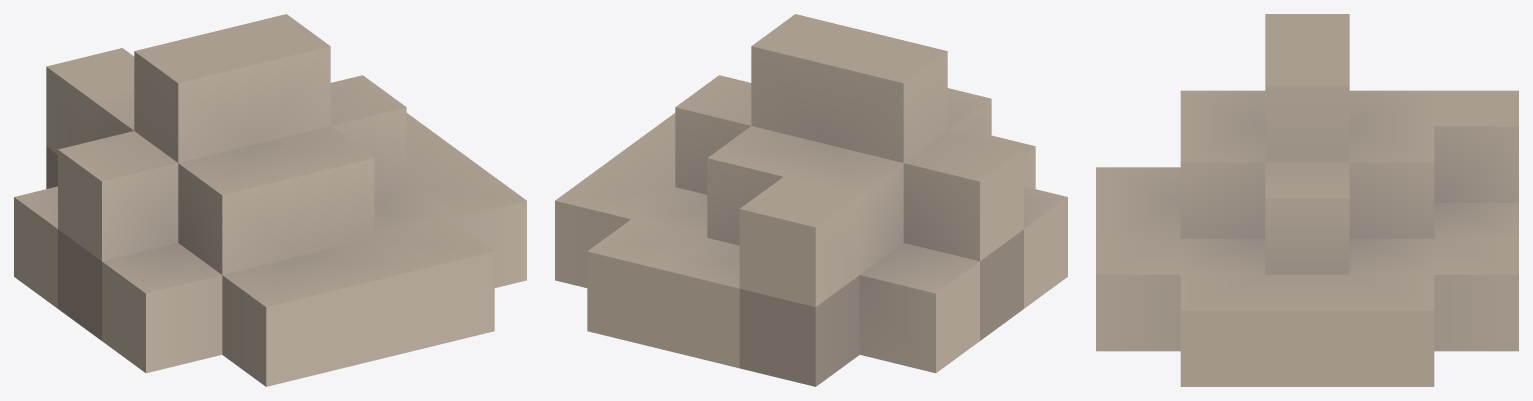
The model's file is decor_rock_c.glb.
3 renders of one model, left to right at view 1: azimuth 30°, elevation 25°; view 2: azimuth 150°, elevation 25°; view 3: azimuth 270°, elevation 25°, orthographic. The views are drawn at different scales.
Parts seen in each view (by area): view 1: decor_rock_c; view 2: decor_rock_c; view 3: decor_rock_c.
Part boxes in pixels (left/top/right/bottom): decor_rock_c: left=14, top=14, right=526, bottom=386; decor_rock_c: left=555, top=14, right=1067, bottom=386; decor_rock_c: left=1096, top=14, right=1518, bottom=386.
Size of the model in its own units: 0.625 by 0.375 by 0.625.
